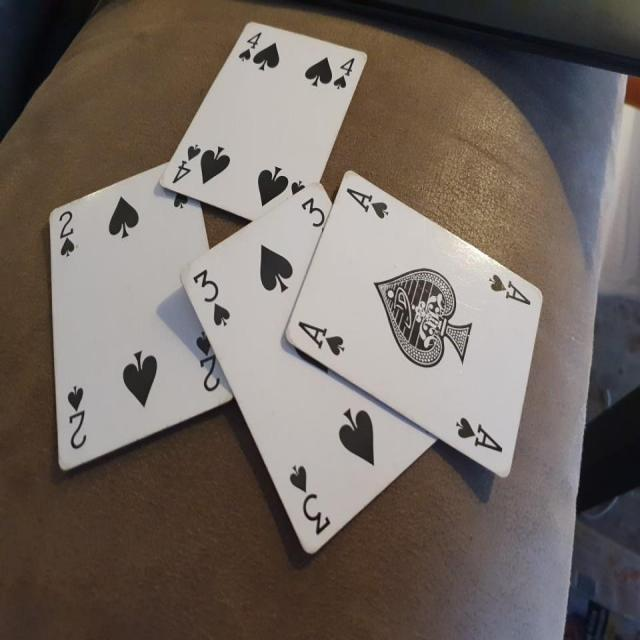2 of spades: (42, 166, 242, 478)
3 of spades: (175, 178, 416, 578)
4 of spades: (152, 19, 371, 232)
ace of spades: (282, 166, 554, 487)
